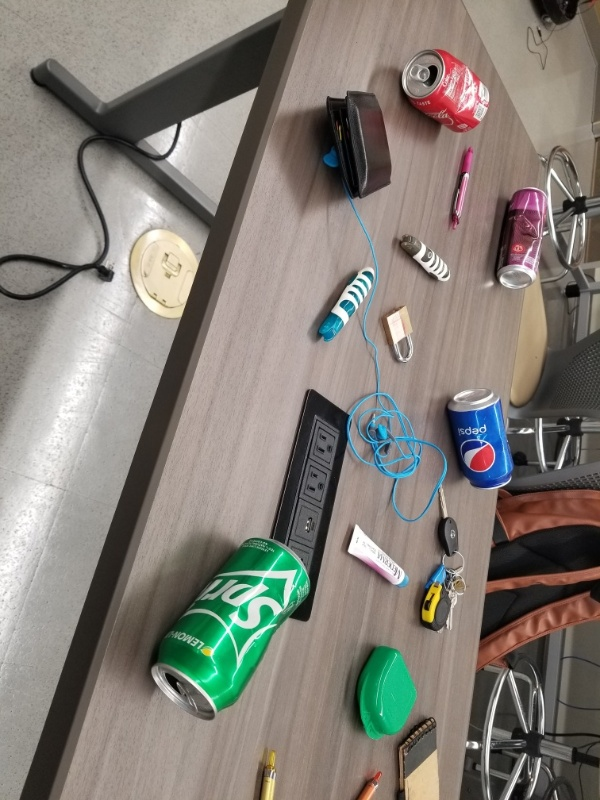can: (142, 531, 314, 728), (401, 48, 494, 135), (445, 383, 514, 492), (495, 185, 549, 294)
